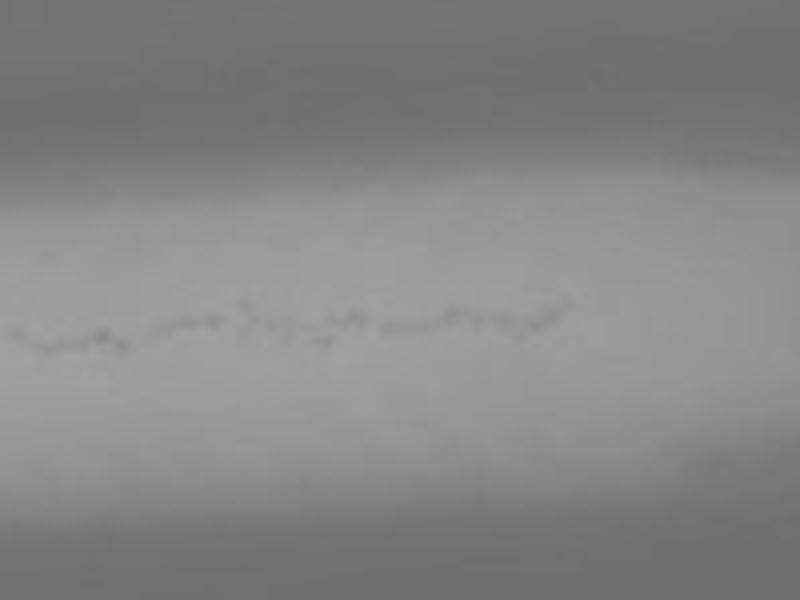defect: (490, 310, 517, 334), (375, 315, 407, 335), (440, 300, 463, 325), (345, 304, 369, 324), (56, 334, 86, 349), (202, 313, 223, 334), (33, 336, 56, 355), (234, 319, 255, 339), (463, 312, 485, 331), (542, 305, 563, 324), (174, 315, 199, 330), (315, 331, 338, 347), (92, 324, 111, 343), (230, 294, 253, 309), (523, 316, 542, 334), (110, 342, 129, 356)
